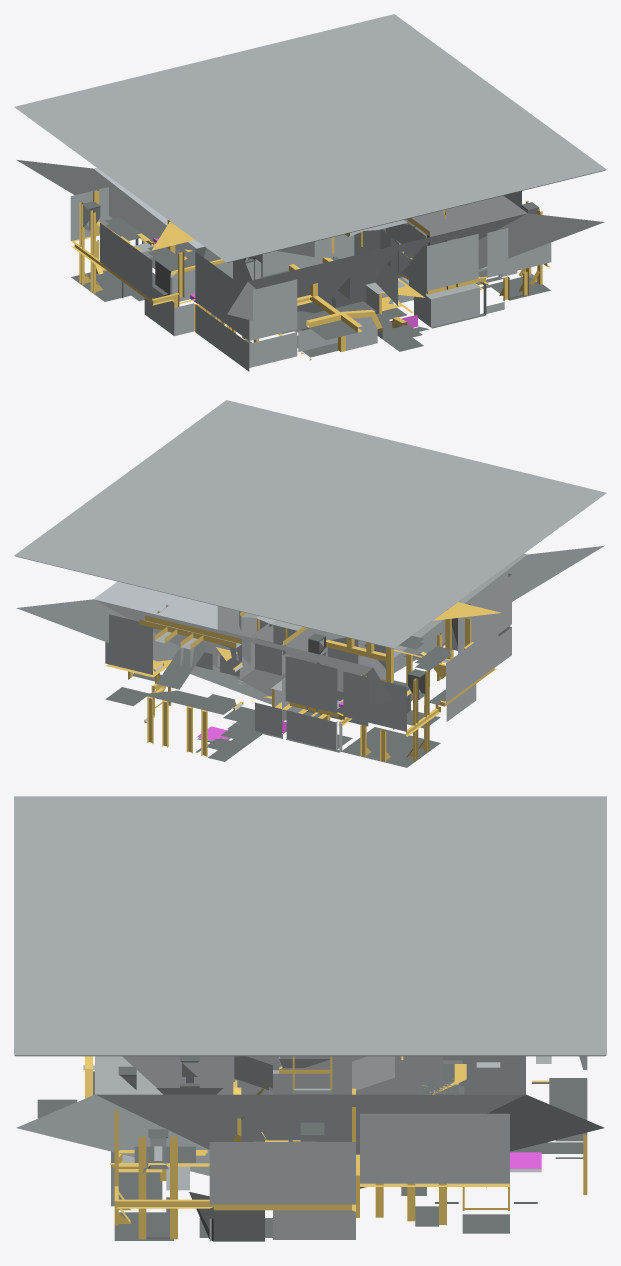
File: oa_minia_unity_layout.fbx
3 renders of one model, top to bottom at view 1: azimuth 30°, elevation 25°; view 2: azimuth 150°, elevation 25°; view 3: azimuth 270°, elevation 25°, orthographic. The views are drawn at different scales.
Parts seen in each view (by area): view 1: OA_MINIA_Layout_Visual_ReplacedMaterials; view 2: OA_MINIA_Layout_Visual_ReplacedMaterials; view 3: OA_MINIA_Layout_Visual_ReplacedMaterials.
Boxes of the visible parts, x1,y1,x2,y2 form: OA_MINIA_Layout_Visual_ReplacedMaterials: [14, 14, 606, 371]; OA_MINIA_Layout_Visual_ReplacedMaterials: [14, 400, 606, 767]; OA_MINIA_Layout_Visual_ReplacedMaterials: [14, 796, 606, 1241].
Size of what is drawn, in the model's own units: 3875 by 1938 by 3750.
